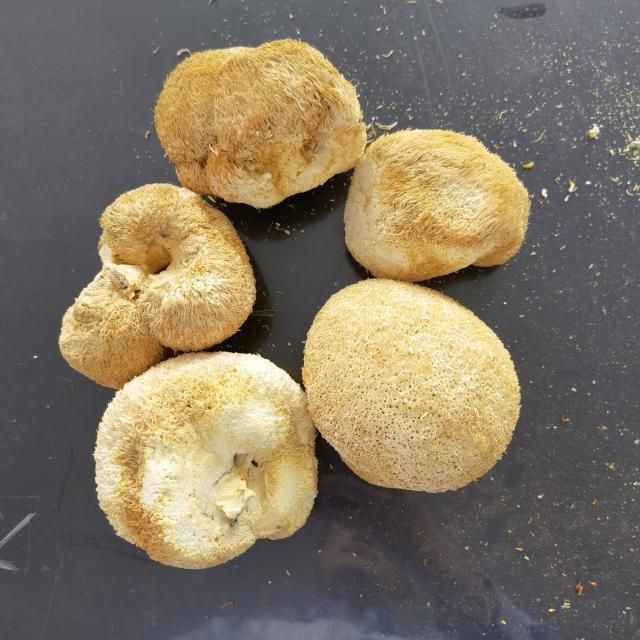Hericium erinaceus: (94, 353, 322, 565), (307, 273, 520, 494), (147, 35, 378, 203), (60, 181, 253, 367), (351, 125, 541, 282)
